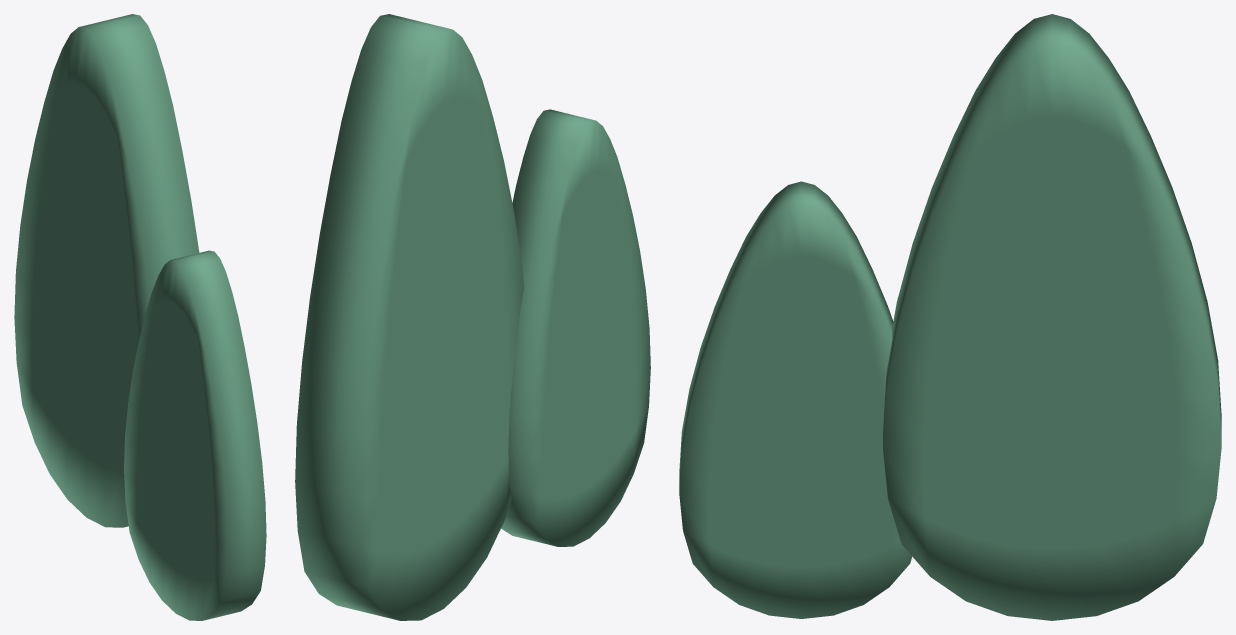
Rendered from grass.gltf.
The picture shows the model from 3 angles, left to right: view 1: azimuth 30°, elevation 25°; view 2: azimuth 150°, elevation 25°; view 3: azimuth 270°, elevation 25°; orthographic projection. The views are drawn at different scales.
Parts seen in each view (by area): view 1: Plane.004, Plane.005; view 2: Plane.004, Plane.005; view 3: Plane.004, Plane.005.
Boxes of the visible parts, x1,y1,x2,y2 form: Plane.004: (14,14,199,527); Plane.005: (124,250,266,620); Plane.004: (295,14,523,620); Plane.005: (501,109,650,546); Plane.004: (883,14,1221,620); Plane.005: (679,181,912,618).
Bounding box in the file's own units: 0.0645 × 0.4367 × 0.3623.
